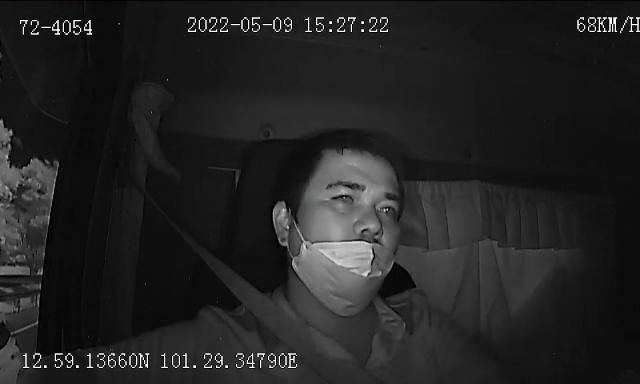SafeDriving: (326, 186, 362, 208), (373, 196, 401, 220)
Seatbelt: (174, 224, 360, 384)
